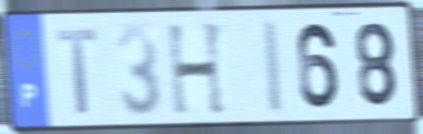3: (115, 21, 164, 119)
6: (294, 20, 342, 113)
8: (353, 19, 401, 110)
H: (164, 19, 230, 119)
I: (260, 17, 287, 117)
T: (53, 26, 100, 118)
